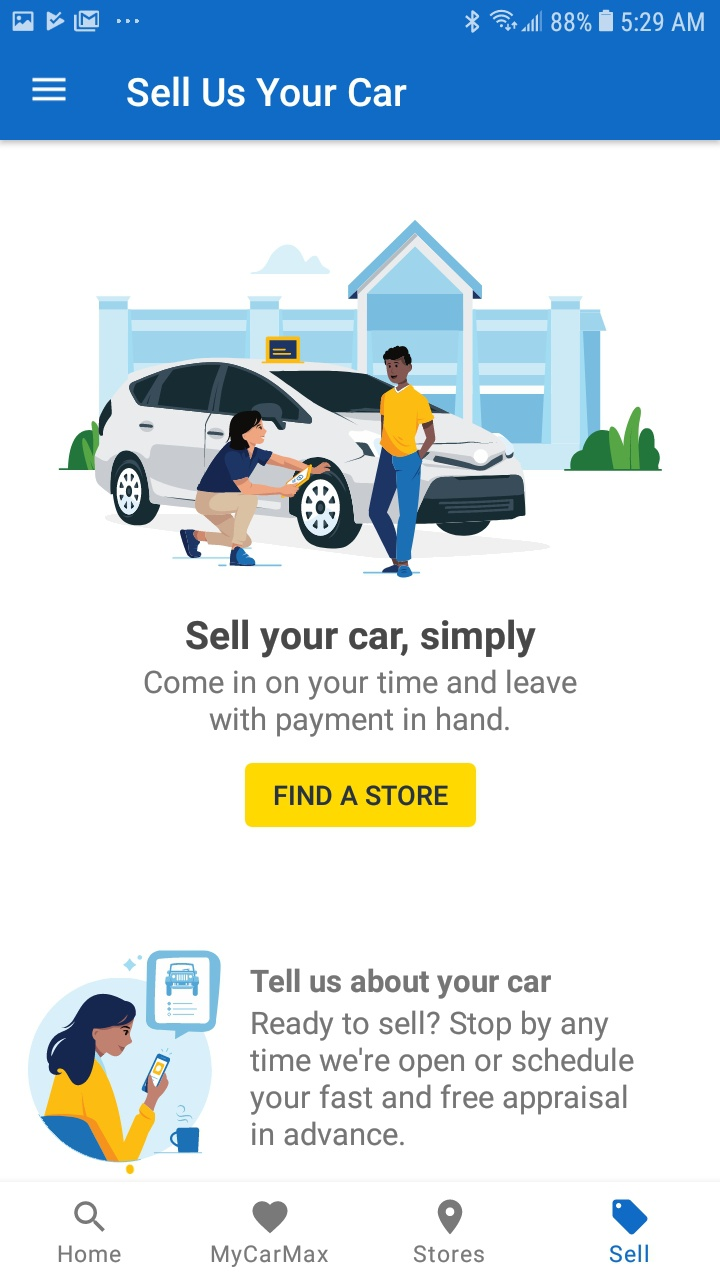Icon: (612, 1199, 648, 1235), (252, 1200, 289, 1234), (74, 1200, 107, 1232), (437, 1199, 463, 1235), (32, 77, 68, 103)
Image: (59, 220, 663, 580), (28, 950, 222, 1175)
Text: (250, 1010, 635, 1146), (145, 669, 578, 738), (186, 619, 537, 659), (250, 968, 552, 1000), (127, 76, 408, 109), (212, 1244, 329, 1268), (414, 1244, 485, 1263), (59, 1244, 122, 1263), (610, 1243, 649, 1263)
TextButton: (245, 763, 477, 828)
UpperTaskBar: (1, 1, 720, 35)
